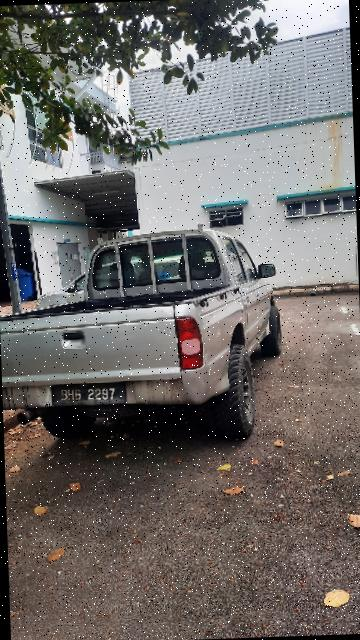License_Plate: (46, 381, 131, 411)
car: (7, 211, 288, 458)
